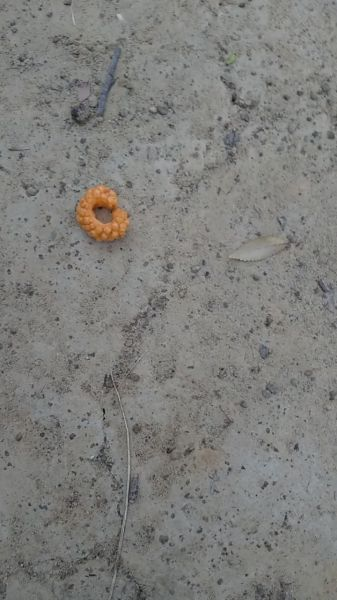eggs: (72, 180, 130, 247)
